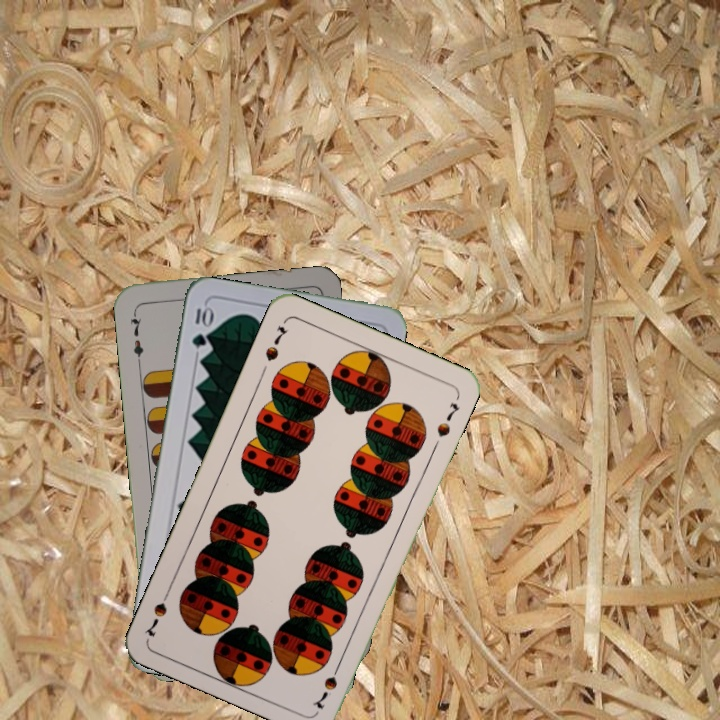E7: (126, 307, 146, 366)
G10: (188, 303, 213, 350)
S7: (308, 657, 344, 711), (260, 322, 291, 364)
